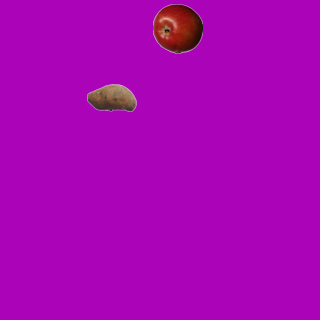Apple Braeburn: (152, 3, 202, 53)
Potato Sweet: (86, 72, 136, 122)
